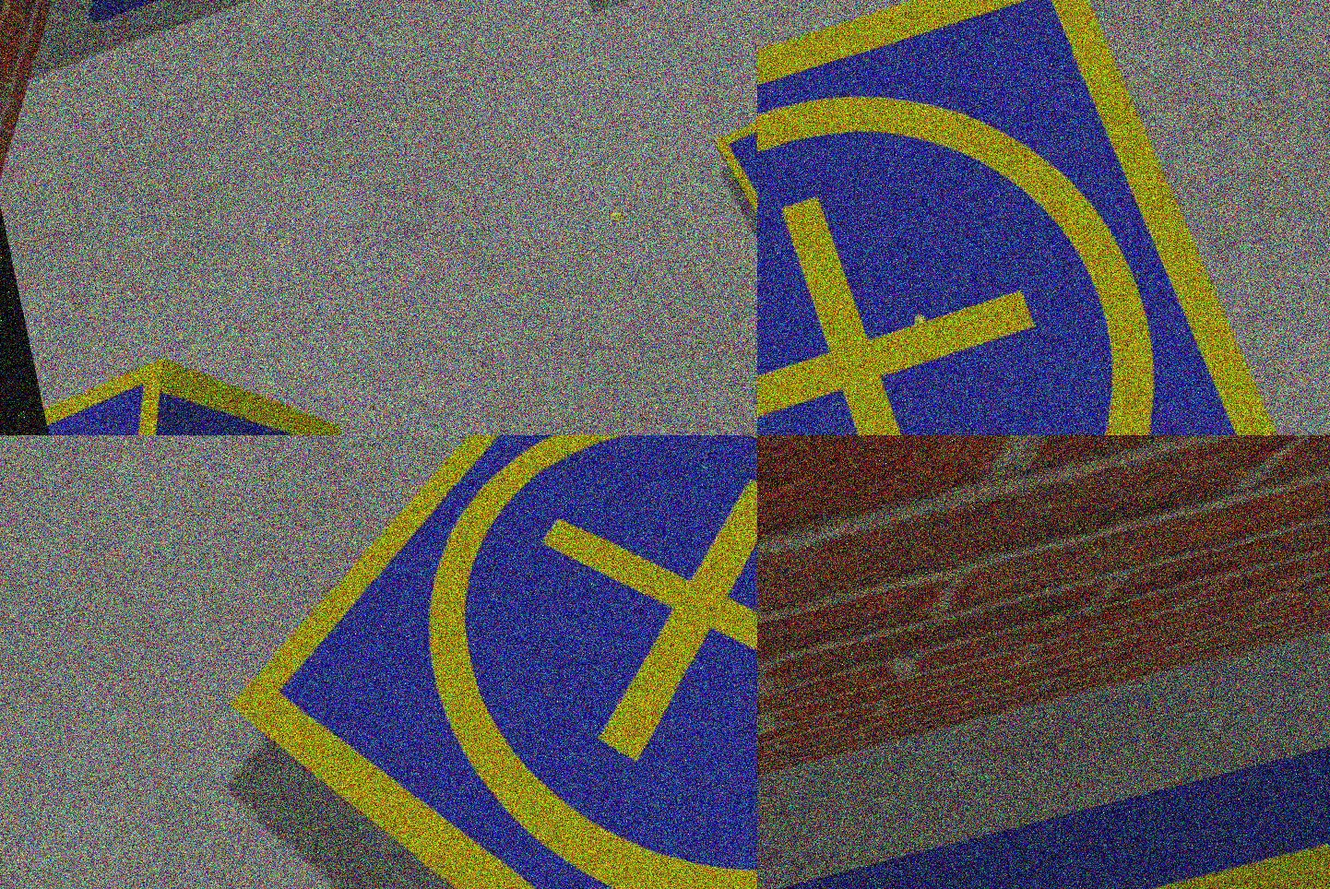large_base: (757, 721, 1330, 889)
small_base: (164, 435, 757, 889), (757, 1, 1330, 435), (39, 356, 214, 435)
